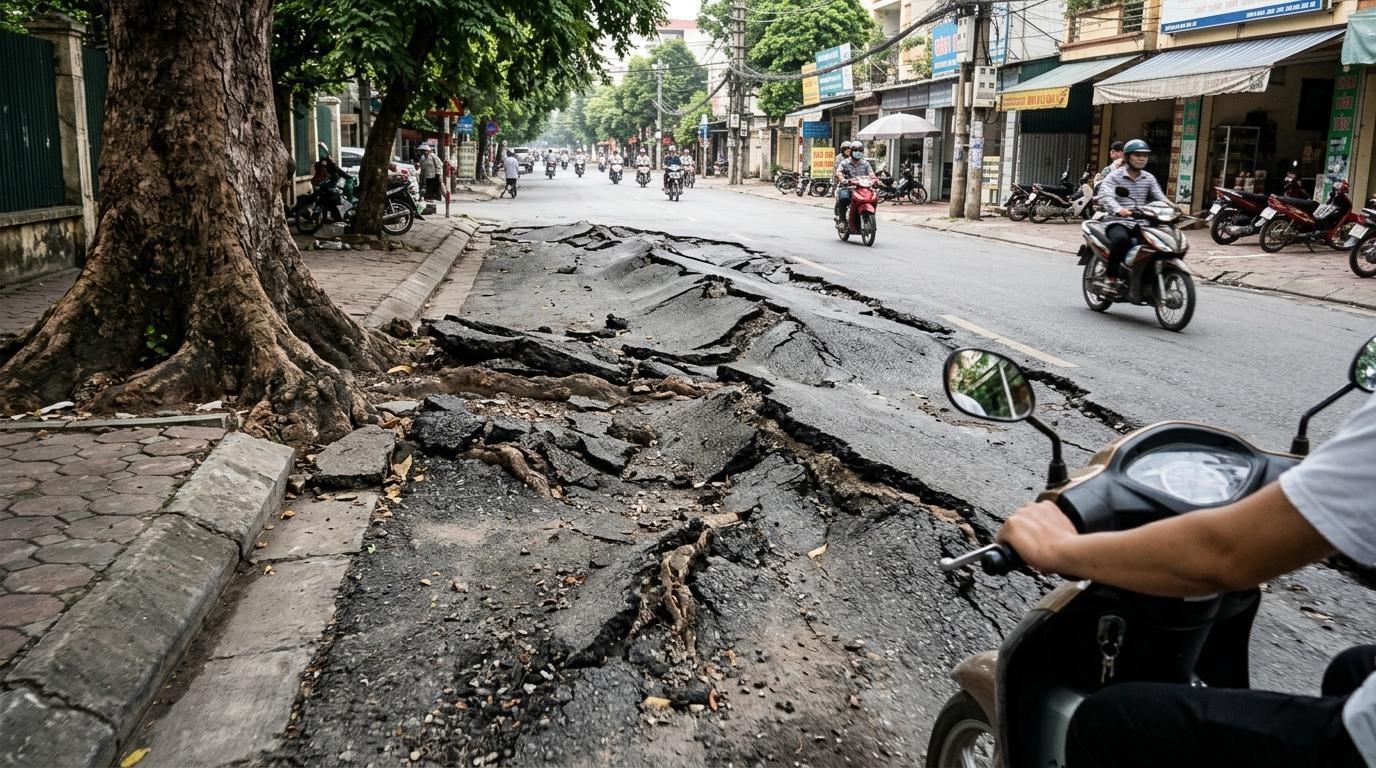ROAD_CRACK: (213, 323, 1108, 630)
